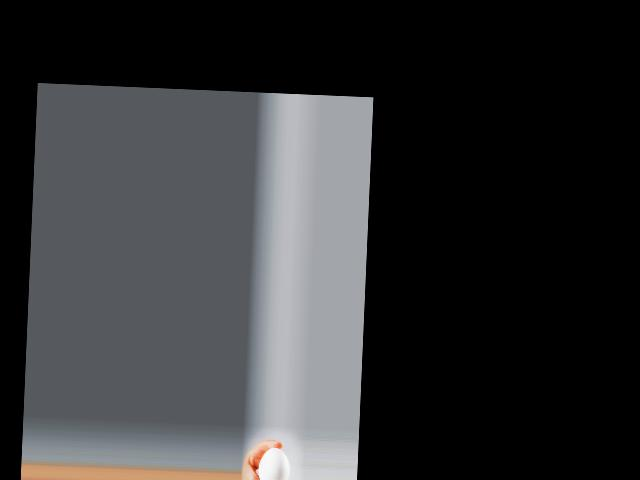egg: (258, 446, 290, 480)
